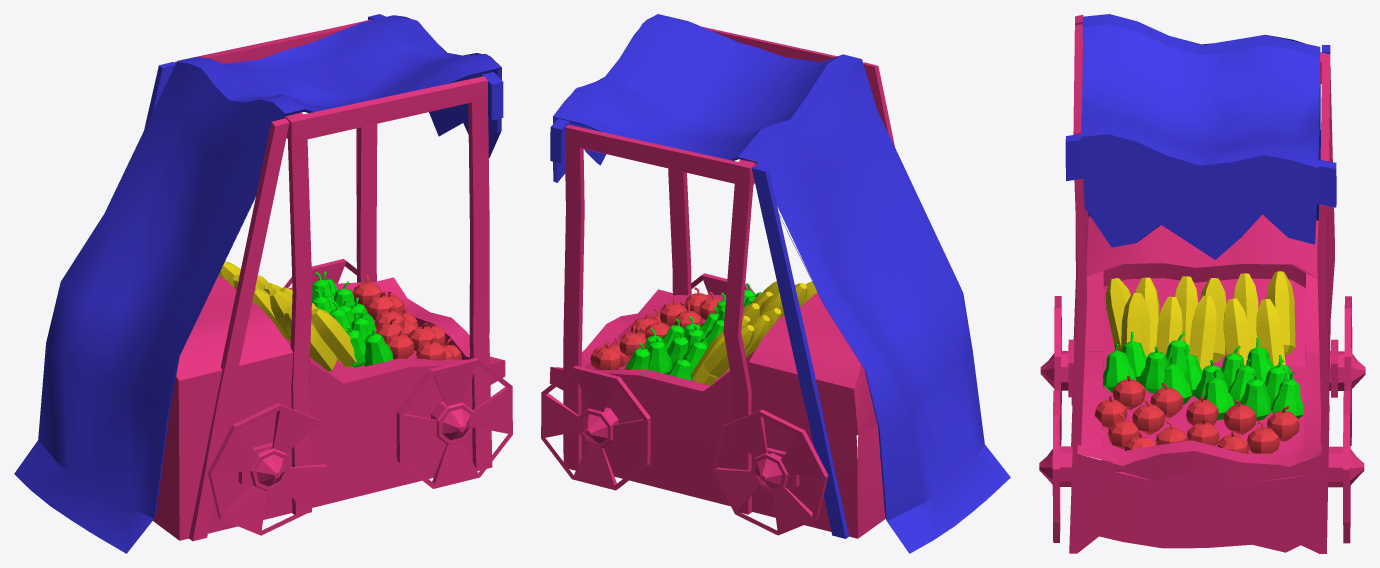
The model's file is Market02.fbx.
The picture shows the model from 3 angles, left to right: view 1: azimuth 30°, elevation 25°; view 2: azimuth 150°, elevation 25°; view 3: azimuth 270°, elevation 25°; orthographic projection. The views are drawn at different scales.
Parts seen in each view (by area): view 1: Cart1; view 2: Cart1; view 3: Cart1.
Part boxes in pixels (box(x1,y1,x2,y2)): Cart1: box(14, 14, 512, 553); Cart1: box(541, 14, 1010, 553); Cart1: box(1039, 14, 1365, 553).
Size of the model in its own units: 105 by 105 by 70.83.
